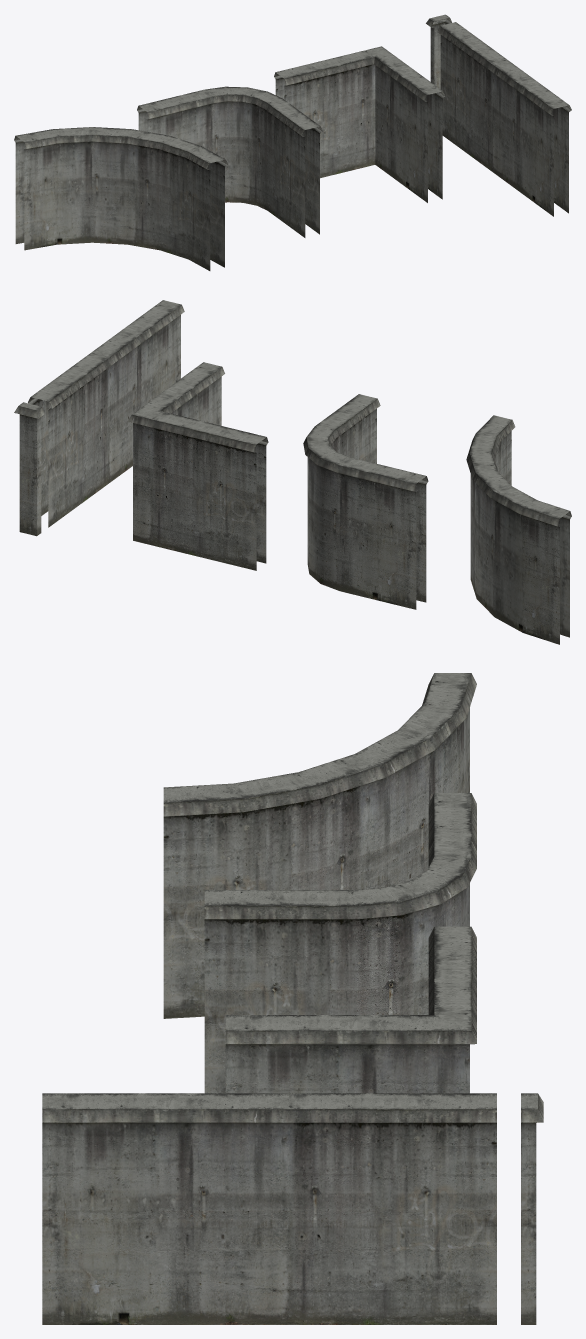
The model's file is UNIConcrete_fence_v1.FBX.
The picture shows the model from 3 angles, top to bottom: view 1: azimuth 30°, elevation 25°; view 2: azimuth 150°, elevation 25°; view 3: azimuth 270°, elevation 25°; orthographic projection. The views are drawn at different scales.
Parts seen in each view (by area): view 1: UNIConcrete_fence_v1_c2, UNIConcrete_fence_v1_L, UNIConcrete_fence_v1_s, UNIConcrete_fence_v1_c1, UNIConcrete_fence_v1_end; view 2: UNIConcrete_fence_v1_L, UNIConcrete_fence_v1_c1, UNIConcrete_fence_v1_s, UNIConcrete_fence_v1_c2, UNIConcrete_fence_v1_end; view 3: UNIConcrete_fence_v1_s, UNIConcrete_fence_v1_c2, UNIConcrete_fence_v1_c1, UNIConcrete_fence_v1_L, UNIConcrete_fence_v1_end.
Part boxes in pixels (<box>): UNIConcrete_fence_v1_c2: <box>14,127,227,270</box>; UNIConcrete_fence_v1_L: <box>274,46,445,202</box>; UNIConcrete_fence_v1_s: <box>437,22,571,216</box>; UNIConcrete_fence_v1_c1: <box>137,86,322,237</box>; UNIConcrete_fence_v1_end: <box>426,14,451,88</box>; UNIConcrete_fence_v1_L: <box>127,362,268,570</box>; UNIConcrete_fence_v1_c1: <box>303,394,428,609</box>; UNIConcrete_fence_v1_s: <box>28,300,184,527</box>; UNIConcrete_fence_v1_c2: <box>466,415,571,644</box>; UNIConcrete_fence_v1_end: <box>14,402,44,536</box>; UNIConcrete_fence_v1_s: <box>42,1093,496,1324</box>; UNIConcrete_fence_v1_c2: <box>163,673,476,1018</box>; UNIConcrete_fence_v1_c1: <box>204,793,476,1093</box>; UNIConcrete_fence_v1_L: <box>225,926,476,1093</box>; UNIConcrete_fence_v1_end: <box>521,1093,543,1324</box>.
Size of the model in its own units: 10.79 by 2.48 by 5.21.
